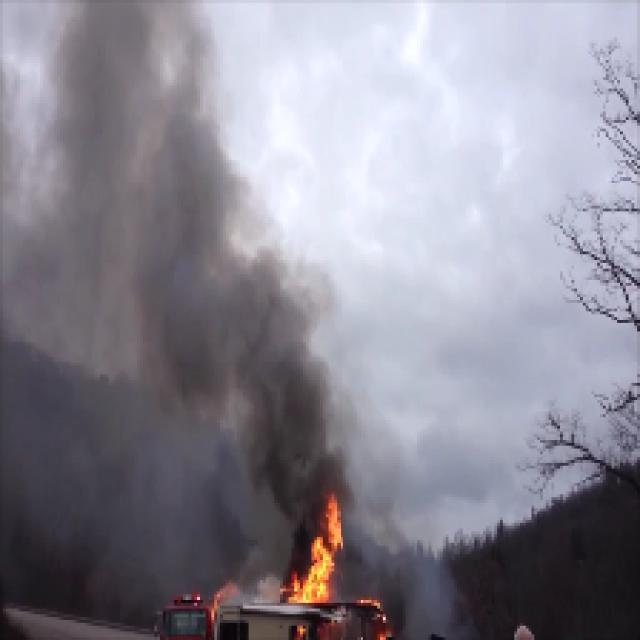fire: (312, 512, 338, 600)
smoke: (148, 212, 228, 384), (243, 333, 323, 478)
